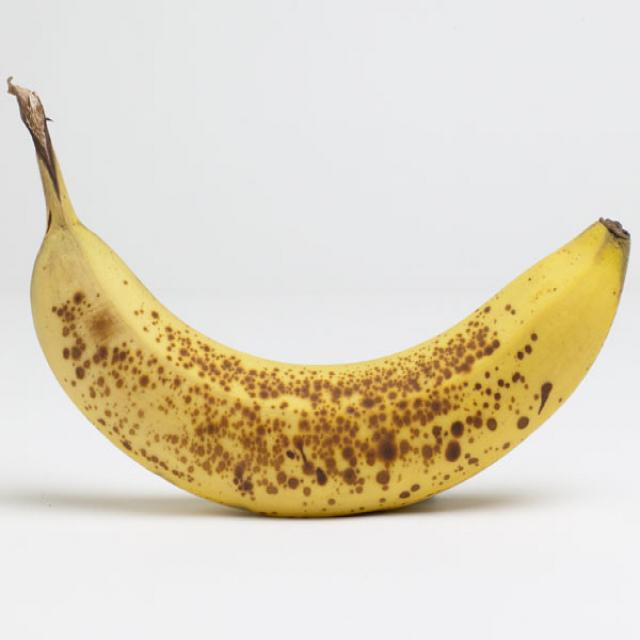Banana: (8, 80, 632, 514)
